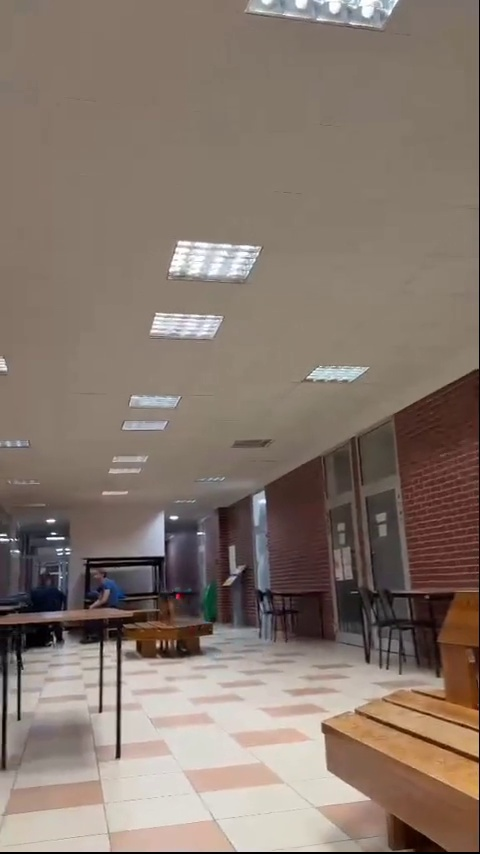drone: (157, 586, 202, 606)
no vest: (89, 566, 130, 612), (31, 568, 71, 611)
